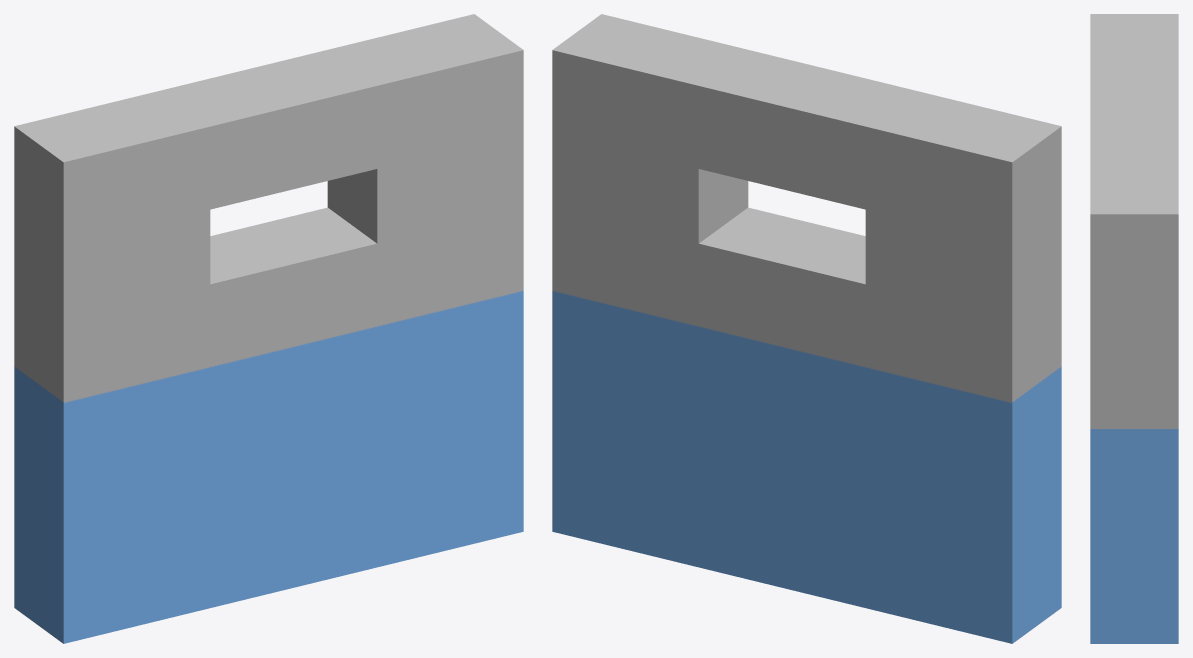
The model's file is ship wall segment.fbx.
3 views of the same model, side by side, from view 1: azimuth 30°, elevation 25°; view 2: azimuth 150°, elevation 25°; view 3: azimuth 270°, elevation 25° (orthographic). The views are drawn at different scales.
Visible parts, largest first — view 1: Cube.001; view 2: Cube.001; view 3: Cube.001.
Part boxes in pixels (x1,y1,x2,y2): Cube.001: (14, 14, 523, 643); Cube.001: (552, 14, 1061, 643); Cube.001: (1090, 14, 1178, 643).
Bounding box in the file's own units: 200 × 200 × 37.15.
